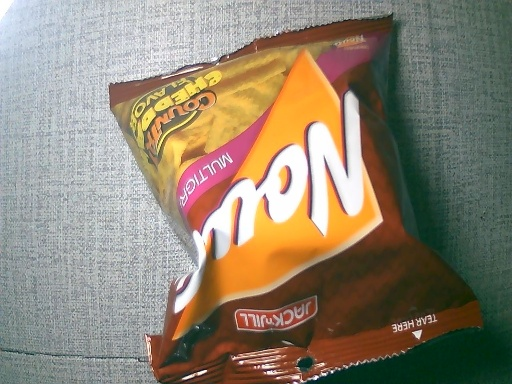plastic: (105, 13, 483, 384)
